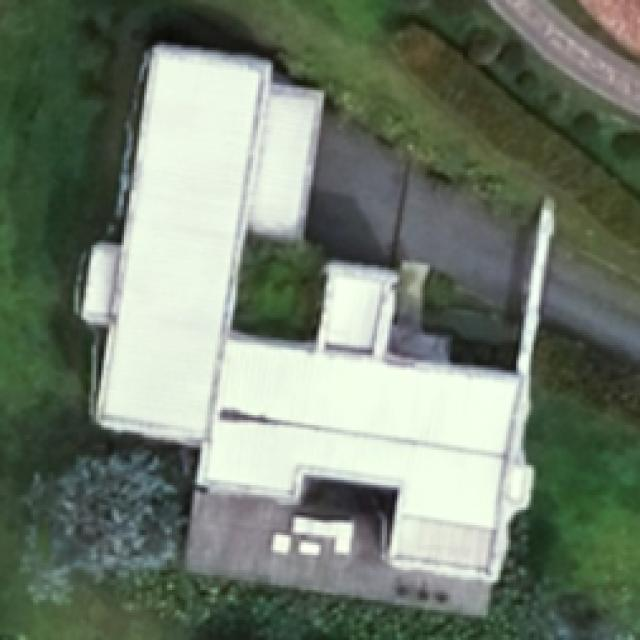Batiment: (85, 46, 553, 611)
